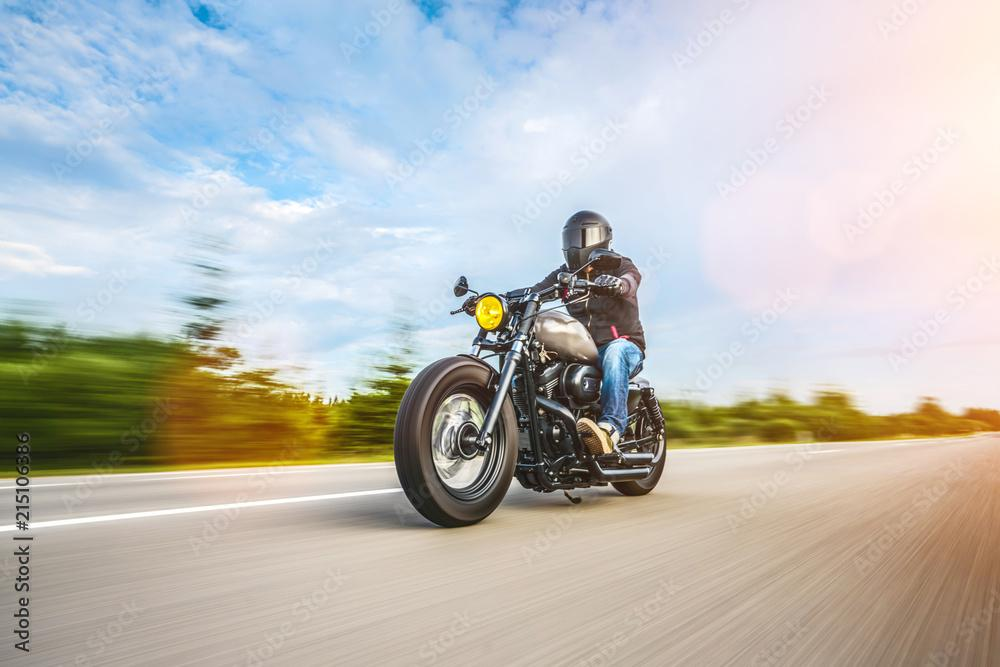helmet: (561, 209, 614, 273)
